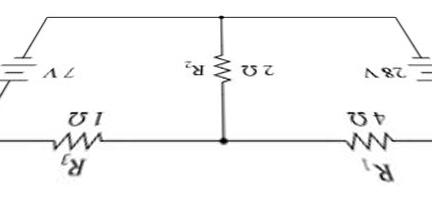Battery: (0, 52, 44, 92)
